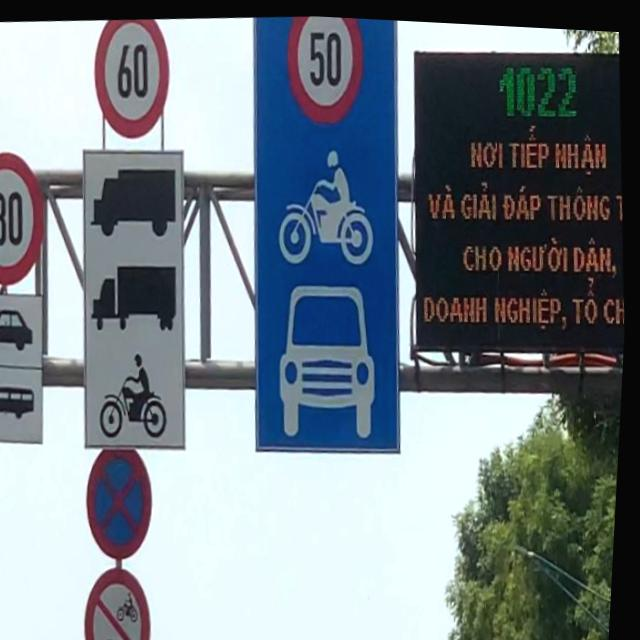Cam dung xe va do xe: (82, 446, 167, 567)
Toc do toi da cho phep: (89, 14, 176, 144), (284, 12, 368, 120), (0, 146, 59, 284)
